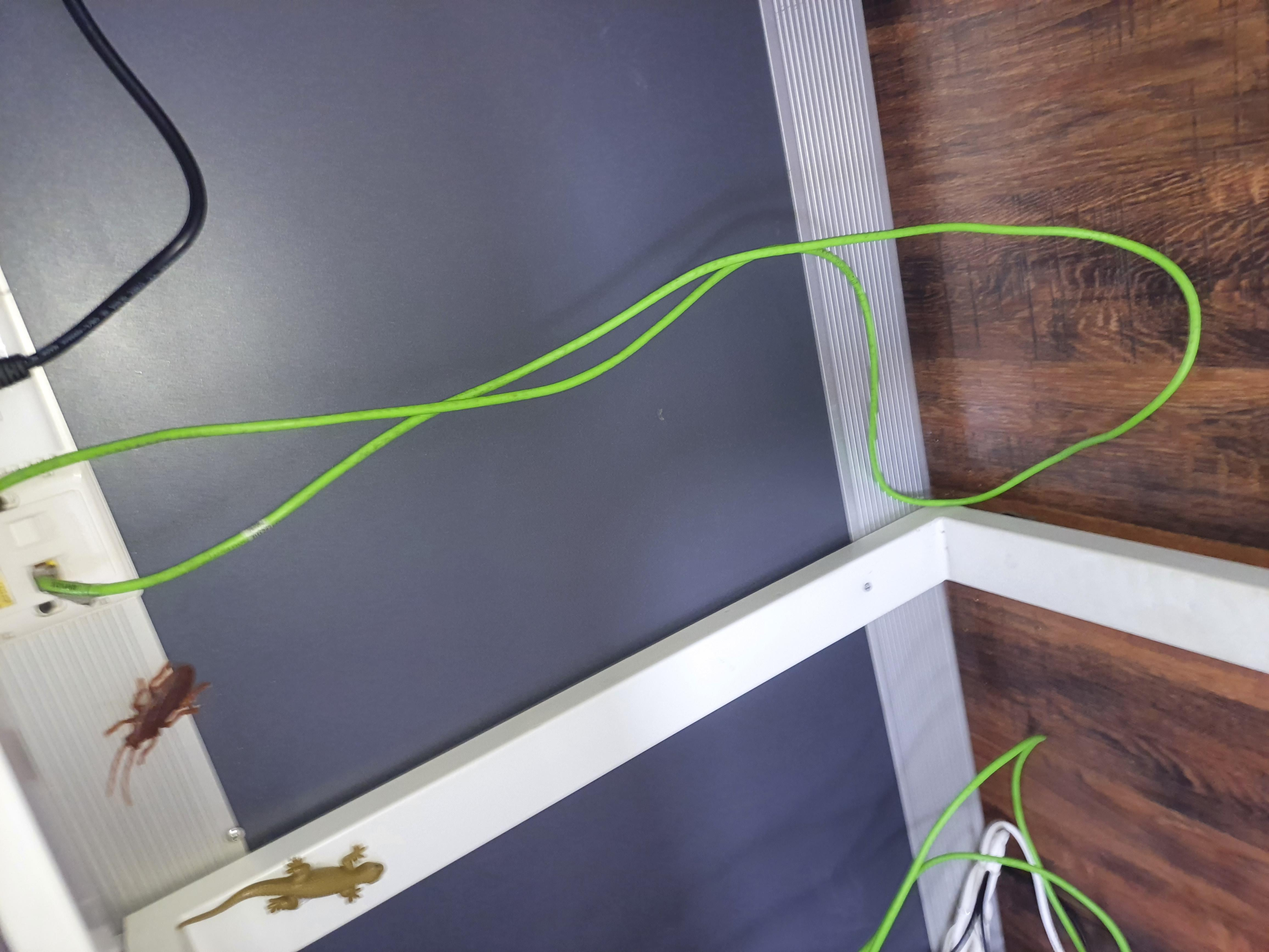cockroach: (176, 66, 425, 160)
lizard: (15, 132, 167, 297)
